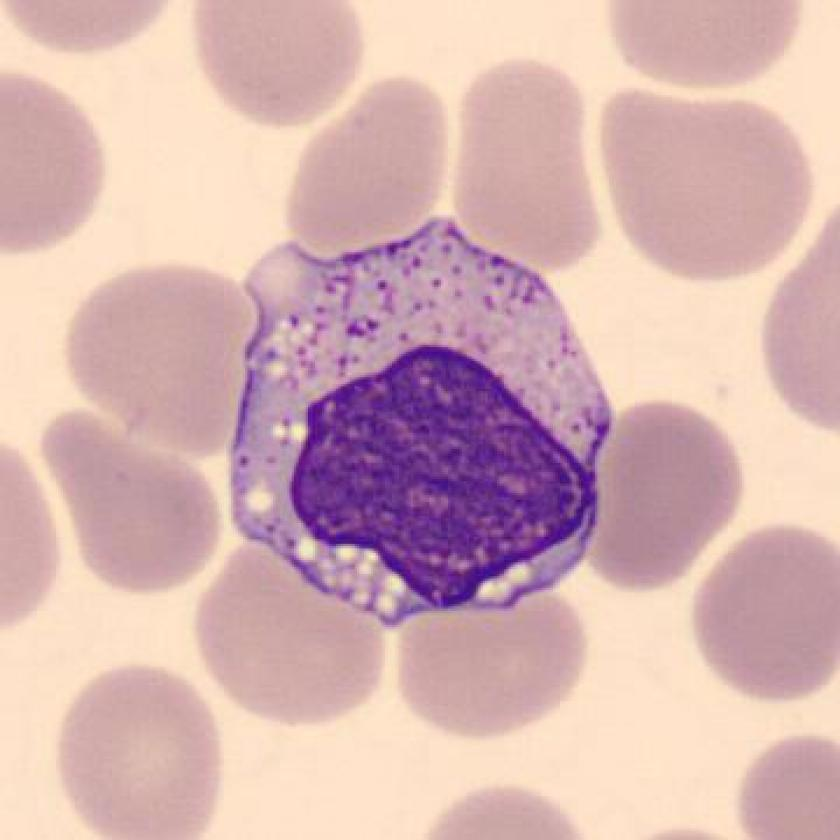monocyte: (204, 205, 636, 649)
